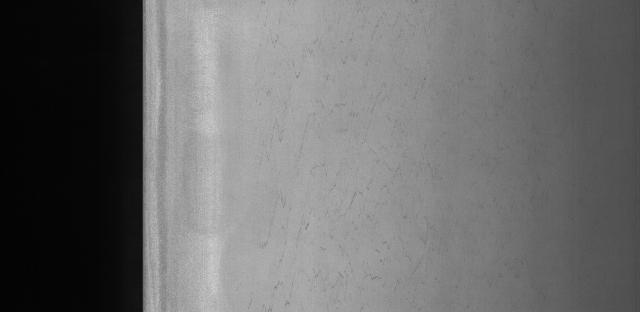silk_spot: (255, 14, 441, 311)
